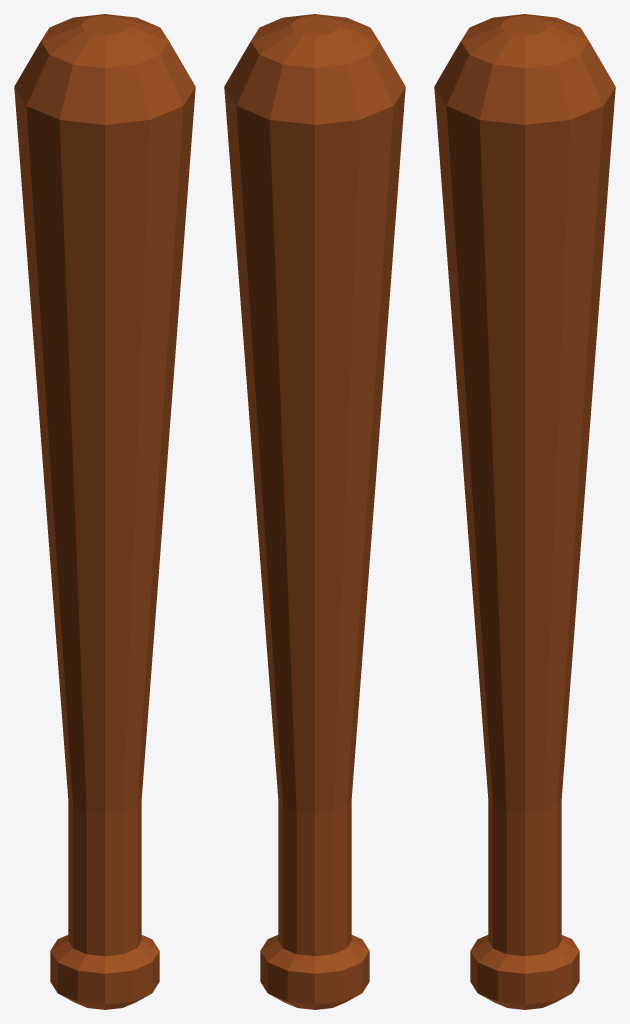
File: Bat.fbx
The picture shows the model from 3 angles, left to right: view 1: azimuth 30°, elevation 25°; view 2: azimuth 150°, elevation 25°; view 3: azimuth 270°, elevation 25°; orthographic projection.
Visible parts, largest first — view 1: Cylinder; view 2: Cylinder; view 3: Cylinder.
Part boxes in pixels (x1,y1,x2,y2): Cylinder: (14,14,195,1009); Cylinder: (224,14,405,1009); Cylinder: (434,14,615,1009).
Bounding box in the file's own units: 61.61 × 363 × 61.61.
